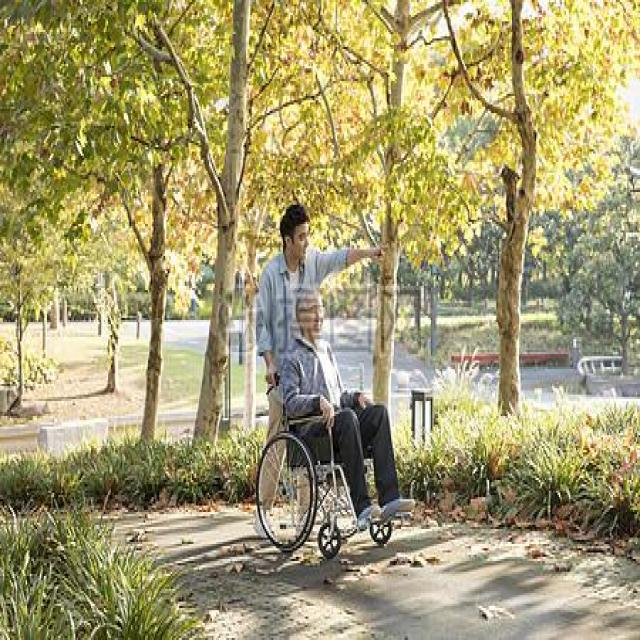wheelchairs: (248, 367, 397, 565)
